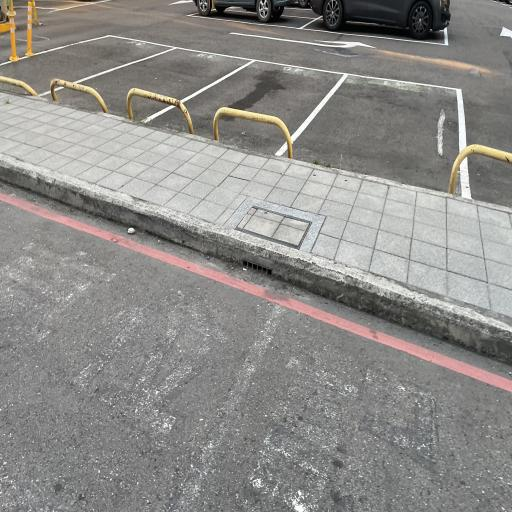redline: (1, 178, 512, 398)
